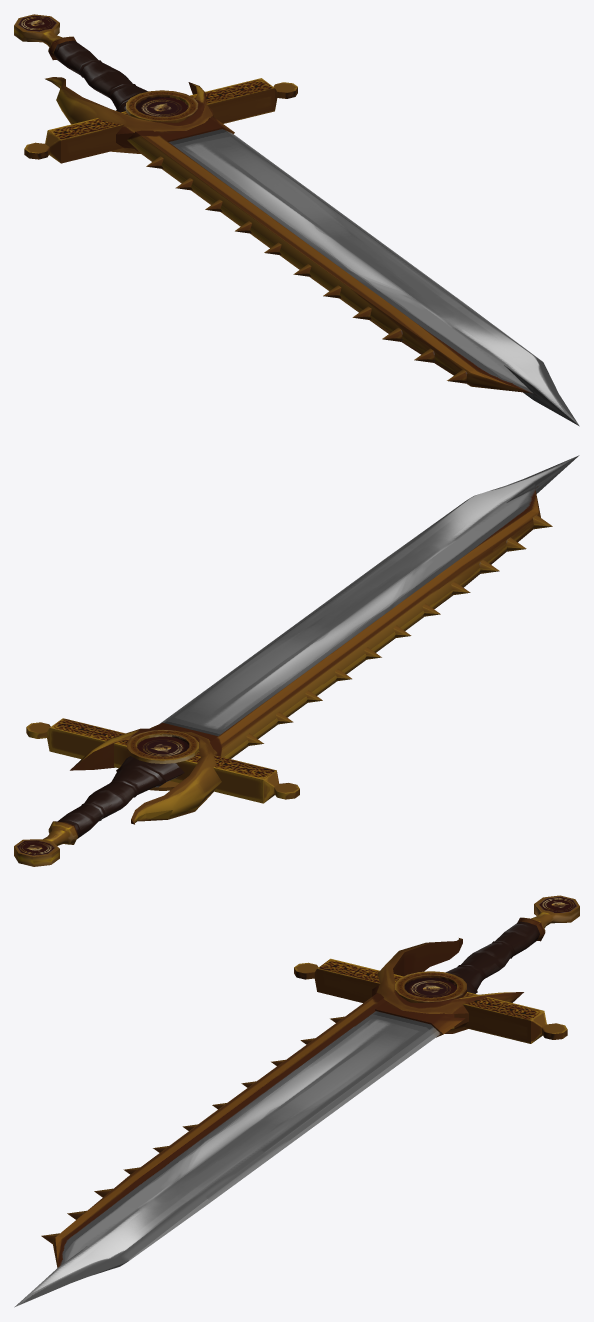
File: Sword.fbx
3 renders of one model, top to bottom at view 1: azimuth 30°, elevation 25°; view 2: azimuth 150°, elevation 25°; view 3: azimuth 330°, elevation 25°, orthographic.
Visible parts, largest first — view 1: sword_Lv003; view 2: sword_Lv003; view 3: sword_Lv003.
Boxes of the visible parts, left/top/right/bottom form: sword_Lv003: left=14, top=14, right=579, bottom=426; sword_Lv003: left=14, top=455, right=579, bottom=866; sword_Lv003: left=14, top=895, right=579, bottom=1307.
Bounding box in the file's own units: 72.46 × 11.09 × 259.
Materials: 1 (1 with a texture image).
